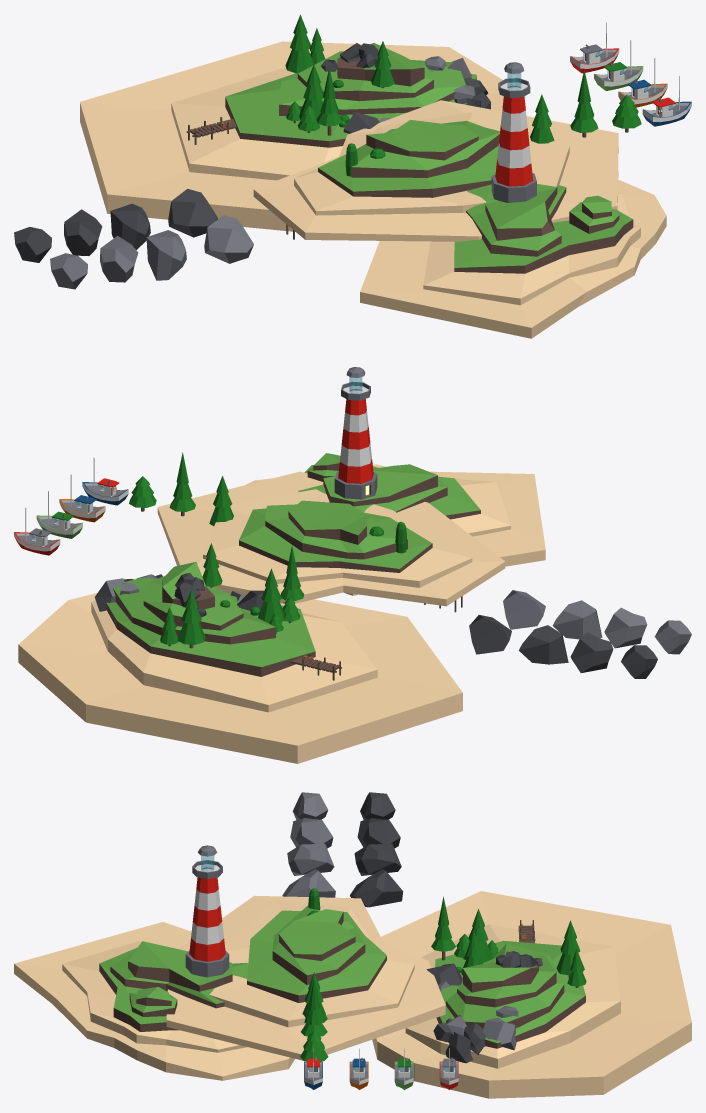
Rendered from ISLAND1.fbx.
The picture shows the model from 3 angles, top to bottom: view 1: azimuth 30°, elevation 25°; view 2: azimuth 150°, elevation 25°; view 3: azimuth 270°, elevation 25°; orthographic projection. The views are drawn at different scales.
Parts seen in each view (by area): view 1: ile2, Plan, ILE2, PHARE ROUGE, caillou1, caillou1.002, caillou2, caillou3, caillou2.004, caillou3.005, caillou4, caillou4.006 (+12 smaller); view 2: ile2, Plan, ILE2, PHARE ROUGE, caillou2.004, caillou2, caillou1, caillou1.002, caillou3, caillou3.005, sapin1.002, caillou4 (+10 smaller); view 3: ile2, Plan, ILE2, PHARE ROUGE, caillou1.002, caillou2.004, caillou2, caillou3.005, caillou3, caillou1, caillou4.006, caillou4 (+12 smaller).
Part boxes in pixels (x1,y1,x2,y2): ile2: (80, 41, 503, 231); Plan: (253, 100, 618, 241); ILE2: (360, 179, 666, 338); PHARE ROUGE: (491, 62, 536, 202); caillou1: (204, 215, 253, 263); caillou1.002: (168, 188, 217, 237); caillou2: (146, 230, 186, 280); caillou3: (100, 235, 138, 282); caillou2.004: (110, 203, 150, 249); caillou3.005: (64, 209, 102, 255); caillou4: (50, 253, 87, 289); caillou4.006: (14, 227, 51, 262); ile2: (18, 562, 462, 763); Plan: (157, 471, 505, 606); ILE2: (246, 453, 545, 595); PHARE ROUGE: (334, 367, 377, 499); caillou2.004: (519, 625, 568, 664); caillou2: (552, 600, 602, 639); caillou1: (503, 590, 545, 629); caillou1.002: (469, 615, 511, 654); caillou3: (604, 607, 647, 648); caillou3.005: (570, 632, 613, 672); sapin1.002: (177, 589, 205, 648); caillou4: (654, 620, 691, 654); ile2: (372, 891, 691, 1098); Plan: (166, 895, 445, 1060); ILE2: (14, 922, 294, 1080); PHARE ROUGE: (185, 845, 229, 977); caillou1.002: (350, 869, 403, 907); caillou2.004: (354, 843, 401, 875); caillou2: (287, 843, 334, 875); caillou3.005: (357, 818, 400, 848); caillou3: (290, 818, 333, 848); caillou1: (282, 869, 335, 897); caillou4.006: (360, 792, 395, 819); caillou4: (292, 792, 327, 820).
Bounding box in the file's own units: 3085 × 890 × 3011.
